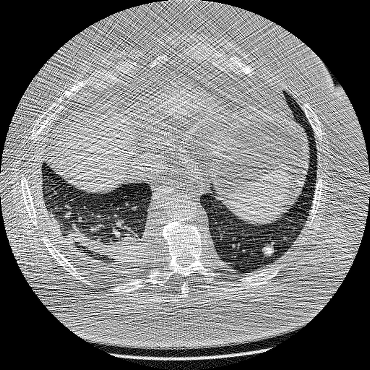nodule: (262, 244, 274, 256)
